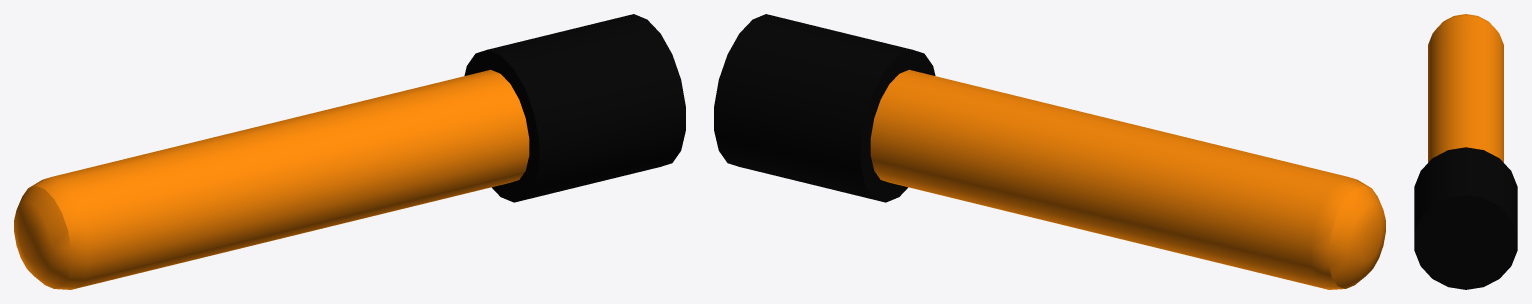
The model's file is nerf_ammo.fbx.
3 renders of one model, left to right at view 1: azimuth 30°, elevation 25°; view 2: azimuth 150°, elevation 25°; view 3: azimuth 270°, elevation 25°, orthographic. The views are drawn at different scales.
Visible parts, largest first — view 1: pCylinder52; view 2: pCylinder52; view 3: pCylinder52.
Boxes of the visible parts, x1,y1,x2,y2 form: pCylinder52: (14, 14, 685, 289); pCylinder52: (714, 14, 1385, 289); pCylinder52: (1414, 14, 1517, 289).
Size of the model in its own units: 12.34 by 2.71 by 2.67.
